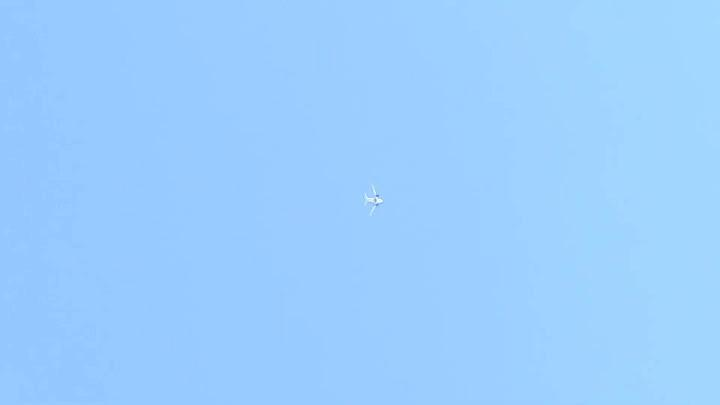Plane: (348, 181, 399, 222)
